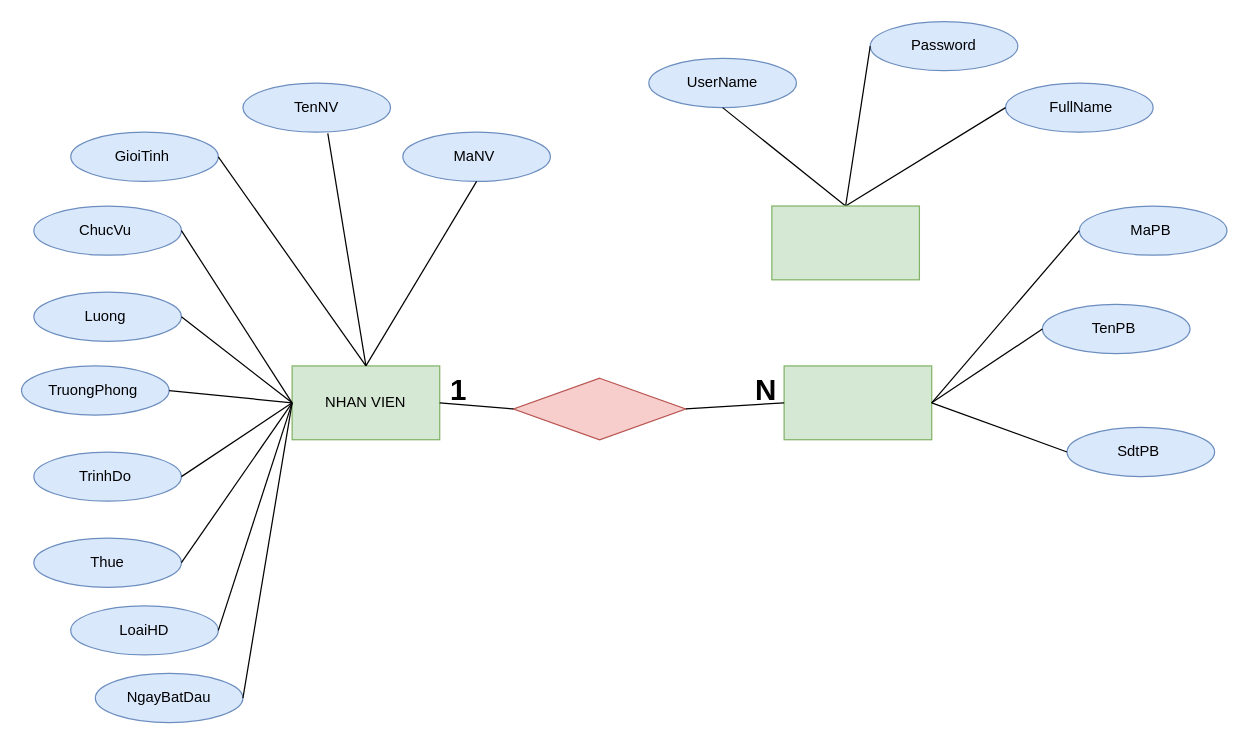
Image size: 1248x744. Some labels were removed from this diagram. Each missing label, with the centre of its shape:
ADMIN: [845,242]
Làm Việc: [599,408]
PHONG BAN: [857,402]
